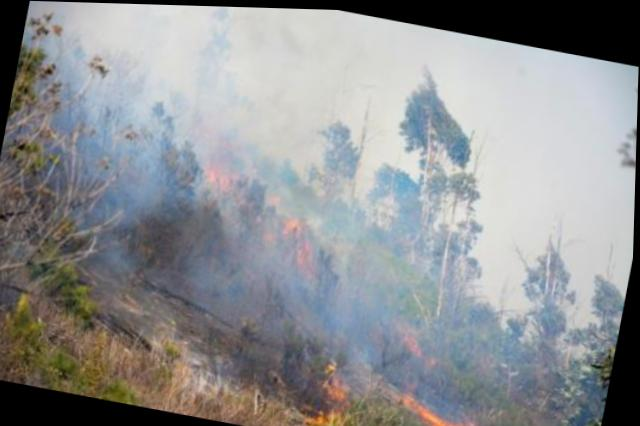fire: (196, 153, 330, 273), (389, 382, 505, 423), (305, 355, 358, 423)
